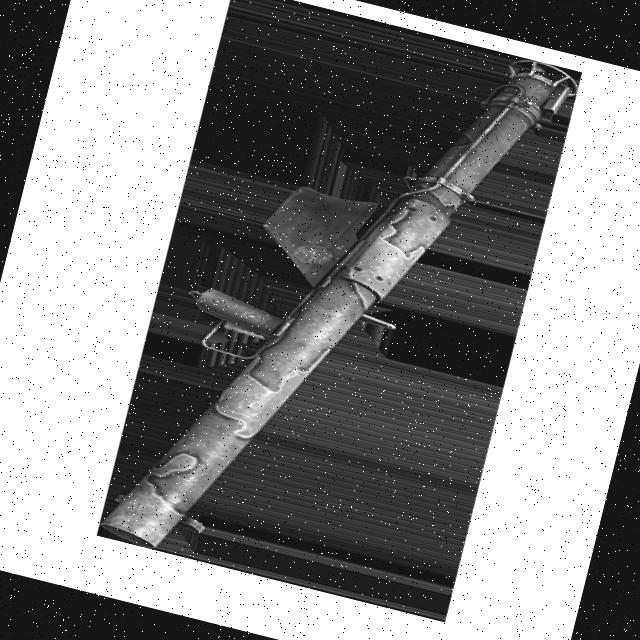rocket: (94, 0, 591, 625)
